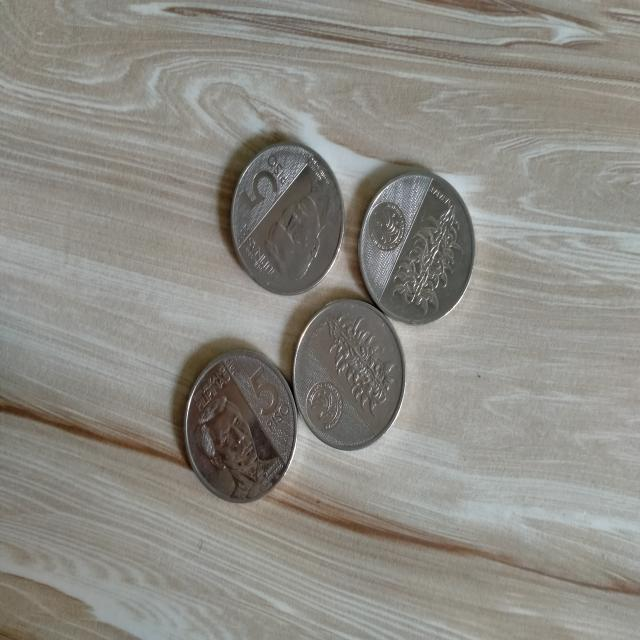5_New_Back: (382, 183, 466, 330), (309, 300, 397, 416)
5_New_Front: (220, 145, 290, 220), (245, 356, 298, 440)
